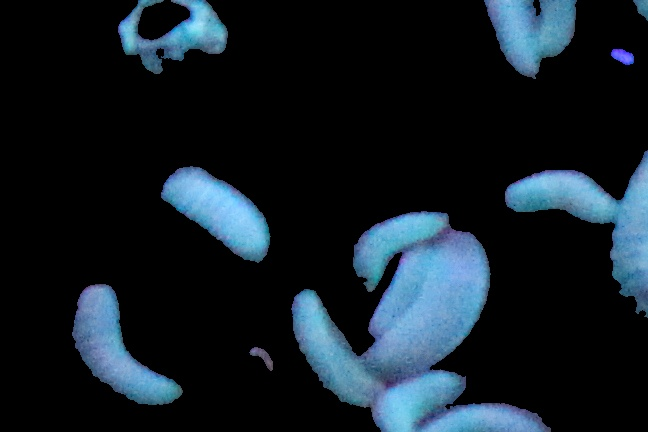larvae: (364, 232, 496, 387), (64, 283, 183, 406), (289, 287, 390, 406), (158, 164, 270, 261), (351, 212, 451, 287), (504, 168, 615, 223), (370, 245, 432, 335), (372, 374, 467, 432), (420, 400, 554, 432)
